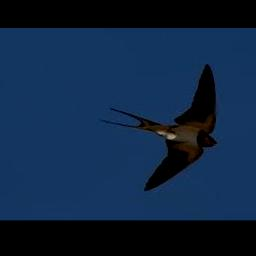Swallow: (101, 64, 220, 191)
